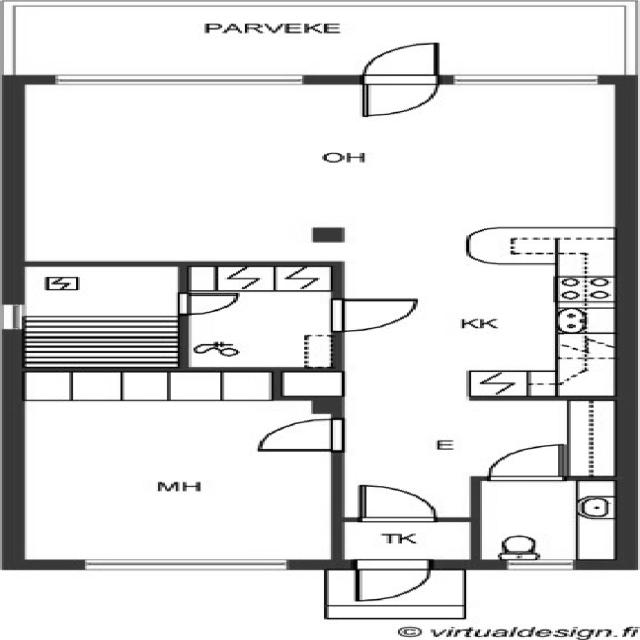door: (354, 41, 440, 120), (348, 556, 438, 606), (319, 294, 429, 334), (246, 415, 351, 454), (479, 441, 574, 484), (352, 481, 442, 525), (171, 288, 248, 319)
window: (51, 68, 314, 88), (73, 554, 303, 571), (442, 70, 614, 86), (498, 556, 586, 574), (1, 300, 33, 334)
zone: (5, 84, 637, 258), (14, 369, 341, 564), (332, 257, 631, 401), (186, 267, 342, 370), (14, 264, 186, 351), (477, 479, 623, 566), (341, 518, 474, 562)
